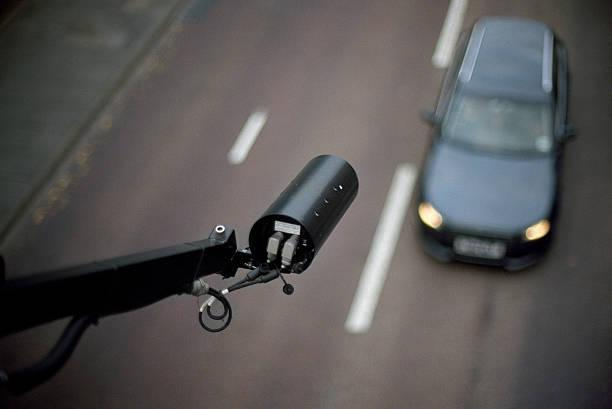camera: (239, 137, 368, 298)
